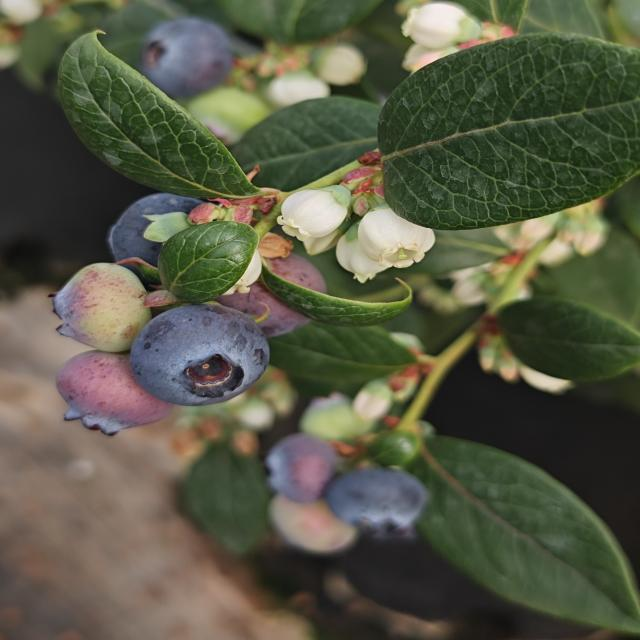ripe: (126, 301, 273, 409), (99, 188, 228, 280), (136, 15, 236, 102), (322, 464, 431, 539), (263, 430, 339, 505)
